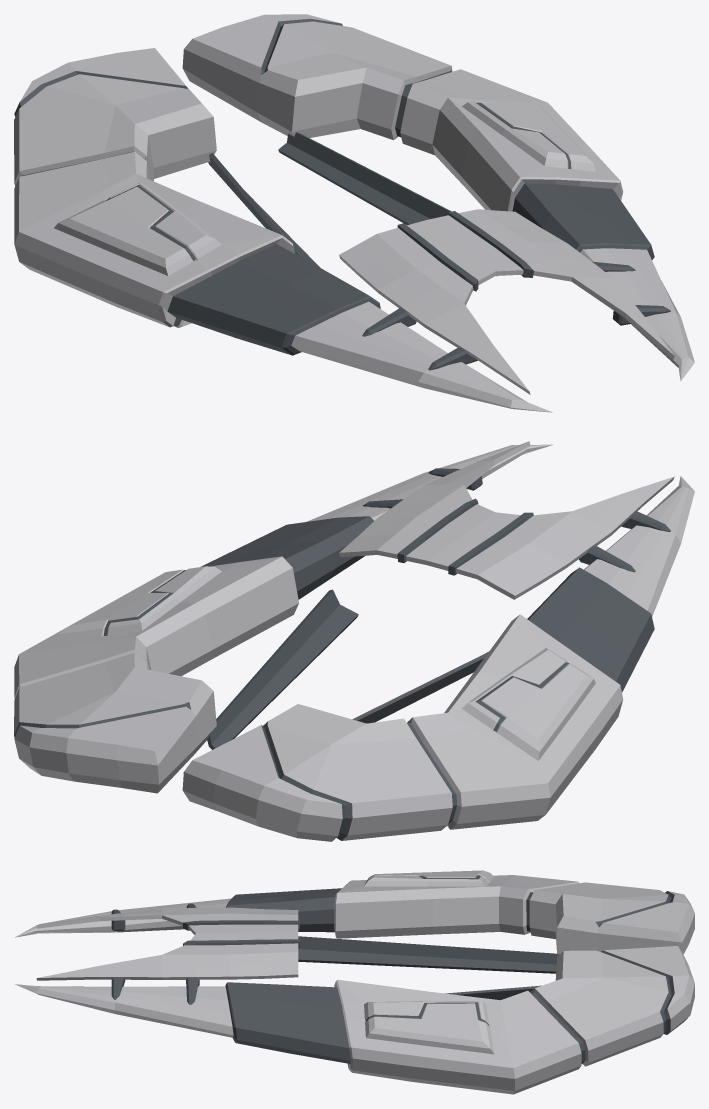
File: Fighter_02_Outer_Frame.fbx
3 views of the same model, one above another, from view 1: azimuth 30°, elevation 25°; view 2: azimuth 150°, elevation 25°; view 3: azimuth 270°, elevation 25° (orthographic). The views are drawn at different scales.
Parts seen in each view (by area): view 1: Fighter_02_Outer_Frame; view 2: Fighter_02_Outer_Frame; view 3: Fighter_02_Outer_Frame.
Part boxes in pixels (x1=…): Fighter_02_Outer_Frame: x1=14, y1=14, x2=694, y2=412; Fighter_02_Outer_Frame: x1=14, y1=441, x2=694, y2=841; Fighter_02_Outer_Frame: x1=14, y1=870, x2=694, y2=1094.
Bounding box in the file's own units: 783 × 132 × 1151.
Materials: 1 (1 with a texture image).
